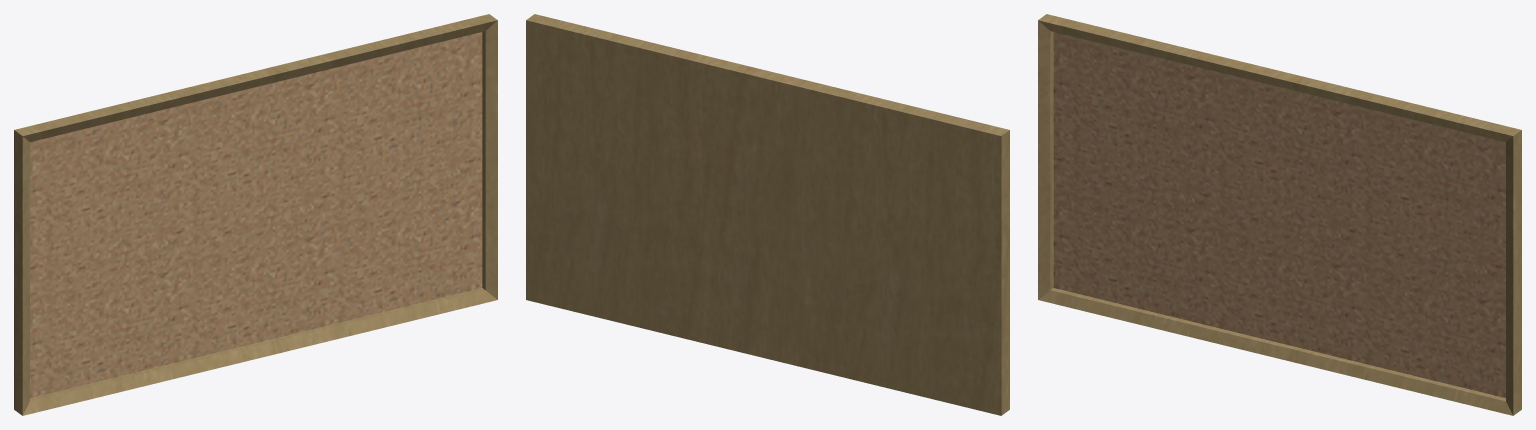
File: Board.fbx
3 views of the same model, side by side, from view 1: azimuth 30°, elevation 25°; view 2: azimuth 150°, elevation 25°; view 3: azimuth 330°, elevation 25° (orthographic).
Parts seen in each view (by area): view 1: Board; view 2: Board; view 3: Board.
Part boxes in pixels (<box>): Board: <box>14,14,497,415</box>; Board: <box>526,14,1009,415</box>; Board: <box>1038,14,1521,415</box>.
Bounding box in the file's own units: 320 × 180 × 10.
1 material, 1 textured.
